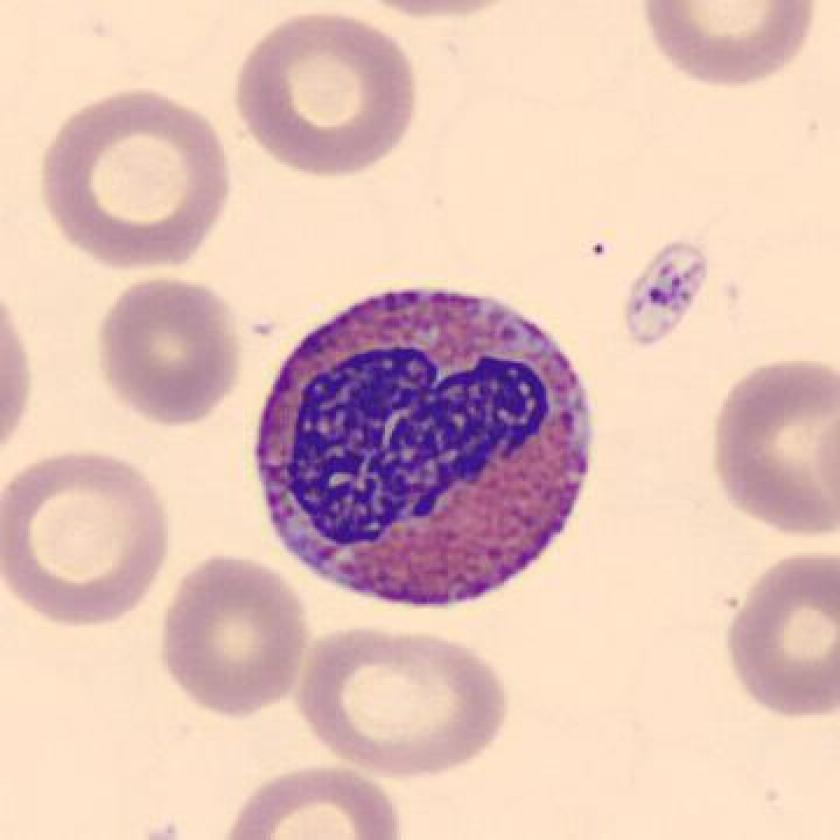eosinophil: (244, 272, 605, 619)
